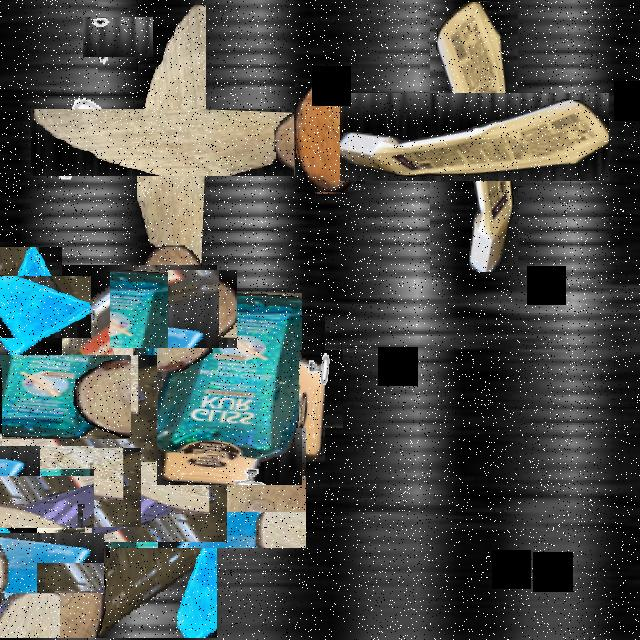glass: (15, 432, 126, 542), (0, 511, 82, 615), (0, 261, 76, 353)
metal: (45, 102, 115, 172), (299, 351, 343, 428), (90, 10, 146, 65), (0, 366, 2, 448)
plastic: (0, 309, 261, 593), (384, 48, 564, 226), (144, 305, 314, 474)
wood: (84, 55, 258, 229), (122, 258, 225, 361), (0, 439, 88, 534), (295, 84, 365, 194)
